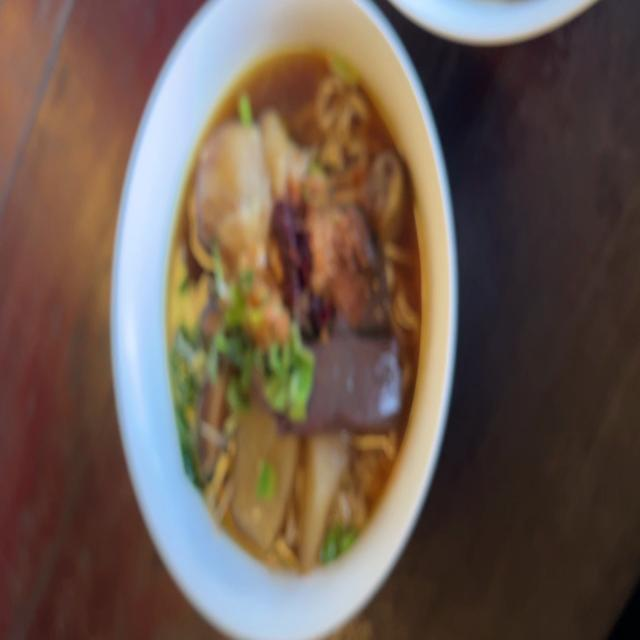boiled_chicken_blood_jelly: (316, 339, 400, 408)
chicken_drumstick: (195, 120, 405, 250)
daikon_radish: (236, 407, 296, 543), (306, 434, 352, 556)
noodle: (164, 34, 433, 559)
